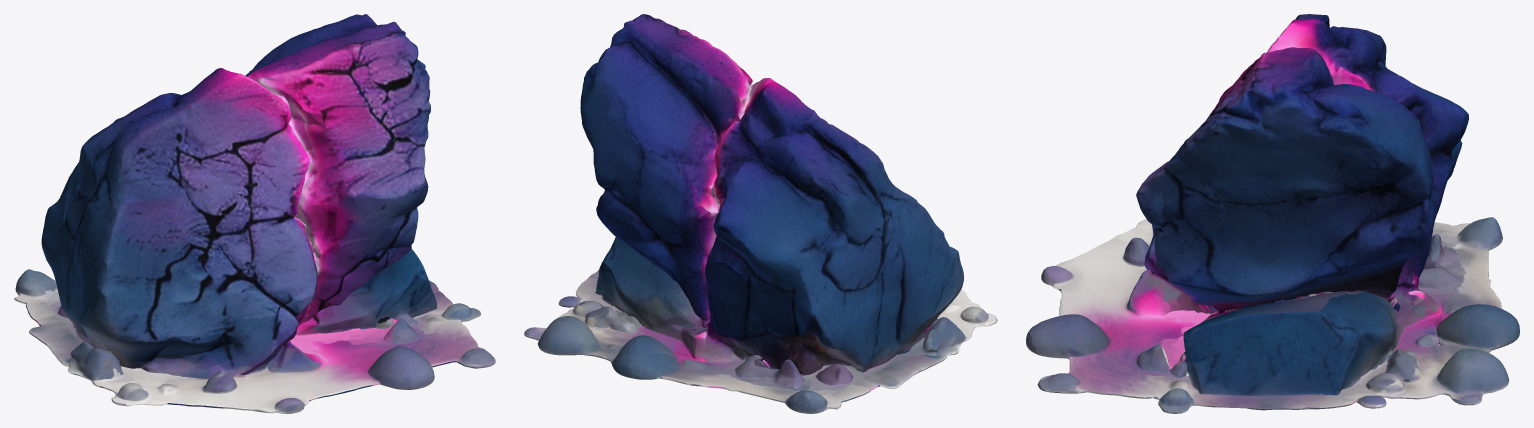
File: shore-stone-7-generated-2026-05-17T20-10-40-578Z.high.glb
3 views of the same model, side by side, from view 1: azimuth 30°, elevation 25°; view 2: azimuth 150°, elevation 25°; view 3: azimuth 270°, elevation 25° (orthographic). The views are drawn at different scales.
Visible parts, largest first — view 1: temp_mesh.ply; view 2: temp_mesh.ply; view 3: temp_mesh.ply.
Boxes of the visible parts, x1,y1,x2,y2 form: temp_mesh.ply: (14, 14, 495, 413); temp_mesh.ply: (524, 14, 997, 413); temp_mesh.ply: (1026, 14, 1519, 413).
Size of the model in its own units: 1.97 by 1.36 by 1.97.
Materials: 1 (1 with a texture image).
